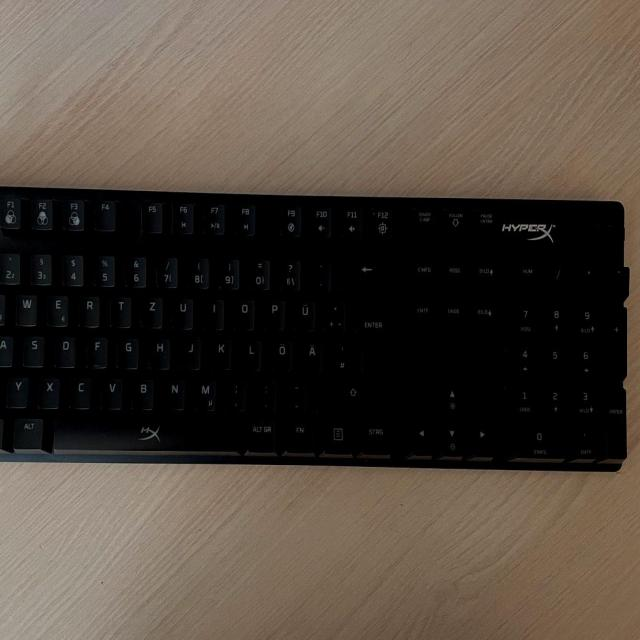0: (246, 255, 270, 290)
1: (0, 248, 11, 282)
2: (0, 249, 20, 284)
3: (28, 250, 52, 284)
4: (60, 250, 83, 285)
5: (92, 251, 115, 286)
6: (123, 252, 147, 286)
7: (154, 253, 178, 287)
8: (186, 253, 209, 288)
9: (216, 254, 240, 289)
a: (0, 331, 13, 365)
accent: (308, 257, 331, 290)
ae: (299, 338, 322, 371)
alt-left: (11, 413, 43, 447)
altgr-right: (245, 417, 275, 450)
b: (130, 374, 154, 408)
c: (68, 373, 92, 407)
caret: (0, 248, 11, 281)
comma: (223, 377, 245, 410)
d: (52, 332, 76, 367)
del: (338, 257, 391, 290)
e: (45, 291, 68, 325)
enter: (353, 298, 390, 371)
f: (85, 333, 108, 367)
g: (116, 334, 138, 368)
h: (146, 334, 170, 368)
hash: (329, 338, 352, 371)
i: (201, 295, 225, 328)
j: (178, 335, 201, 369)
k: (207, 335, 232, 369)
keyboard: (0, 178, 638, 473)
l: (238, 336, 262, 370)
less: (0, 372, 12, 406)
m: (191, 376, 216, 410)
minus: (283, 378, 306, 411)
n: (161, 375, 185, 409)
o: (231, 297, 255, 329)
oe: (269, 337, 293, 371)
p: (262, 296, 285, 329)
plus: (322, 298, 345, 331)
point: (254, 378, 276, 410)
q: (0, 290, 12, 324)
r: (77, 292, 100, 326)
s: (21, 331, 44, 366)
shift-left: (0, 372, 15, 405)
shift-lock: (0, 331, 23, 364)
shift-right: (314, 380, 390, 412)
space: (50, 416, 238, 450)
ss: (277, 256, 301, 290)
strg-left: (0, 413, 16, 446)
strg-right: (358, 420, 390, 453)
t: (108, 293, 131, 326)
tab: (0, 289, 19, 322)
u: (170, 295, 193, 329)
ue: (291, 297, 315, 331)
v: (99, 374, 122, 408)
w: (13, 290, 37, 325)
x: (36, 373, 60, 407)
y: (4, 373, 28, 406)
z: (139, 294, 163, 327)
